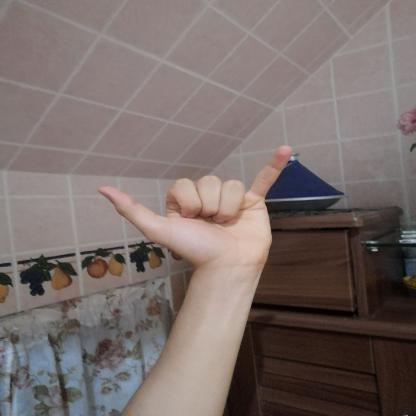YA: (81, 134, 304, 280)
